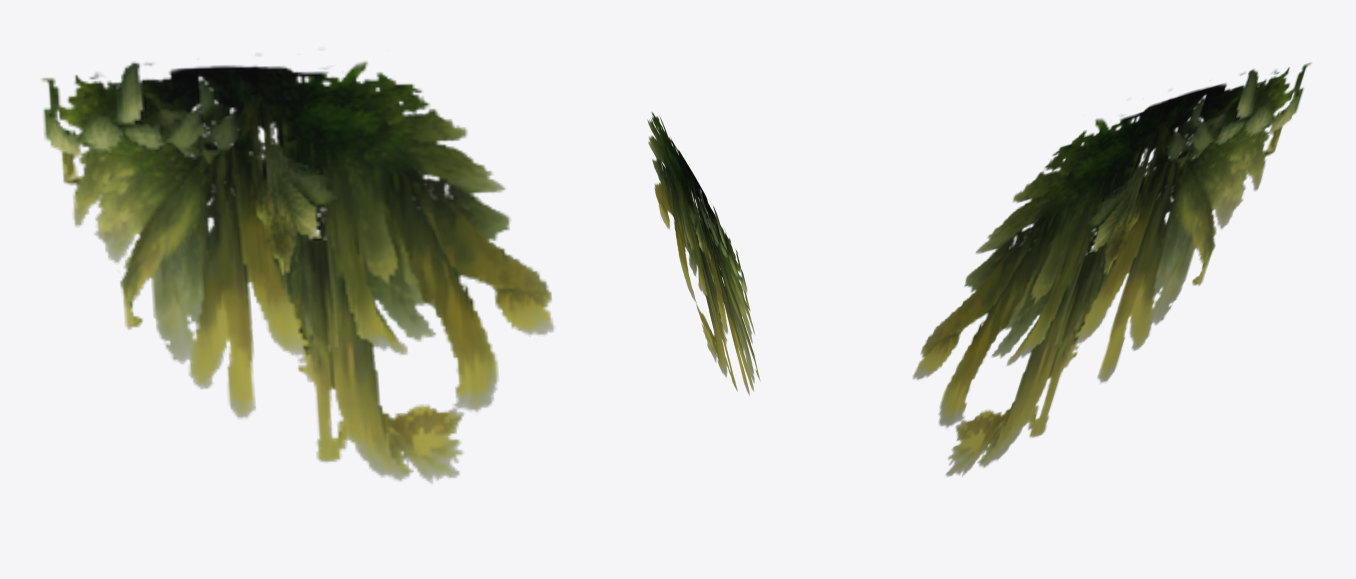
The model's file is TheOctagon_Floor_0_Moss_2.gltf.
3 views of the same model, side by side, from view 1: azimuth 30°, elevation 25°; view 2: azimuth 150°, elevation 25°; view 3: azimuth 270°, elevation 25° (orthographic). The views are drawn at different scales.
Parts seen in each view (by area): view 1: TheOctagon_Floor_0_Moss_2; view 2: TheOctagon_Floor_0_Moss_2; view 3: TheOctagon_Floor_0_Moss_2.
Boxes of the visible parts, x1,y1,x2,y2 form: TheOctagon_Floor_0_Moss_2: (42,62,554,484); TheOctagon_Floor_0_Moss_2: (647,112,760,395); TheOctagon_Floor_0_Moss_2: (913,63,1311,476).
Size of the model in its own units: 2.6 by 3.5 by 3.
Materials: 1 (1 with a texture image).
